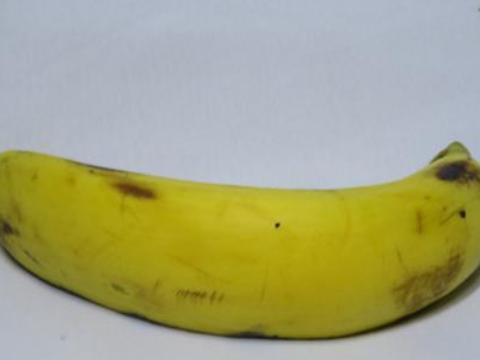freshripe: (0, 129, 479, 350)
